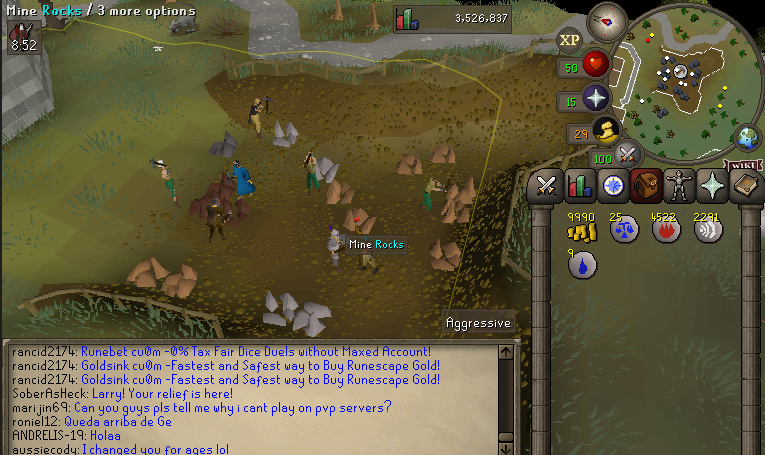depleted: (203, 131, 244, 162)
iron: (218, 196, 258, 231), (186, 190, 223, 223), (208, 171, 244, 202)
